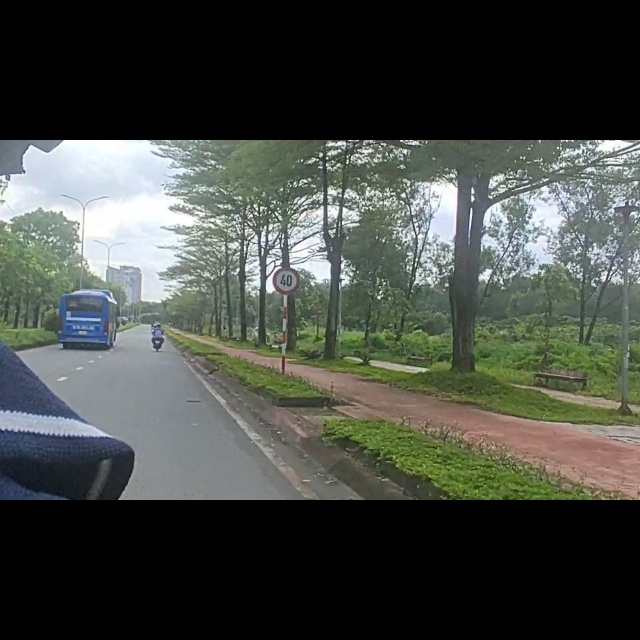Tốc độ tối đa cho phép 40km/h: (274, 268, 300, 294)
